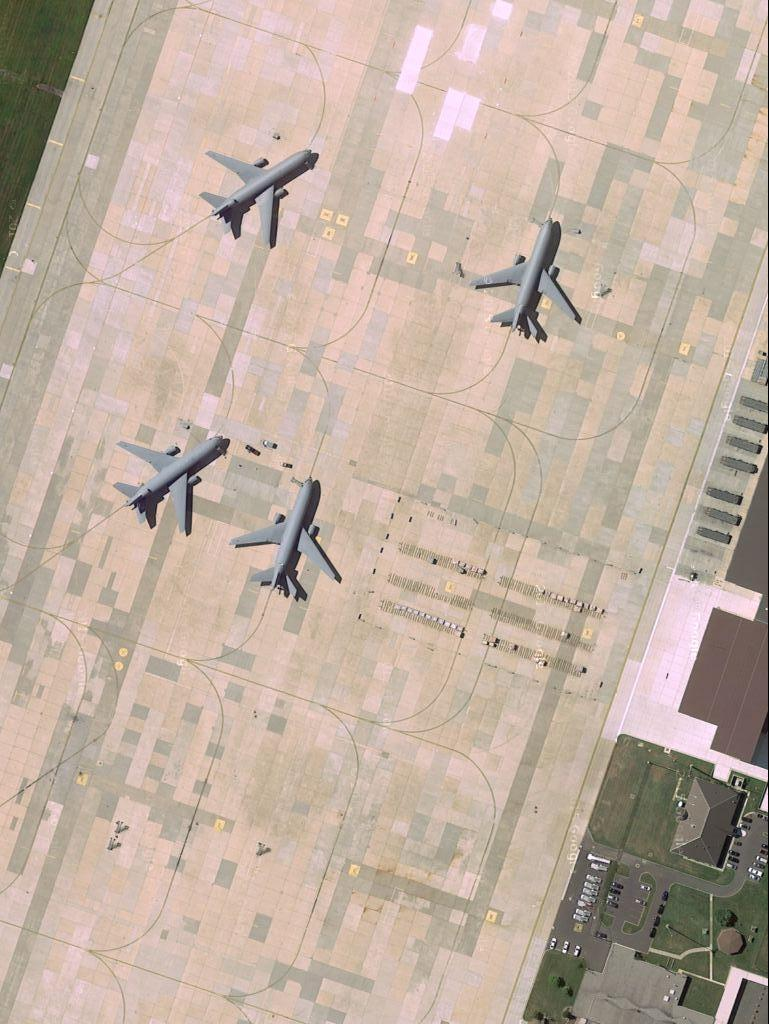KC-10: (475, 207, 583, 344), (231, 470, 346, 598), (112, 426, 231, 542), (195, 143, 318, 247)
